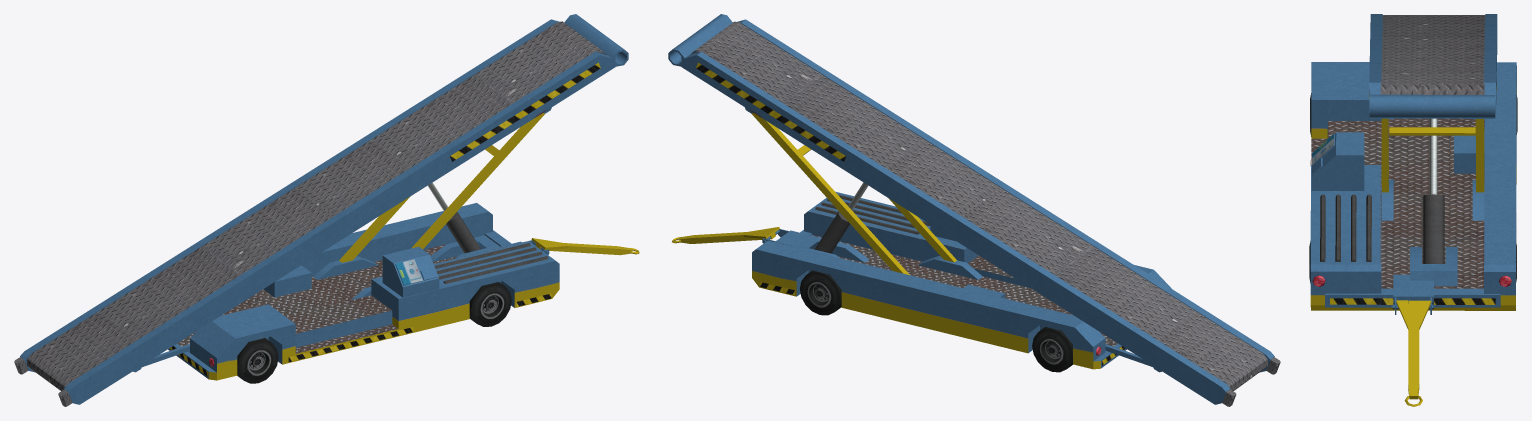
File: Vehicle_Loader01.FBX
The picture shows the model from 3 angles, left to right: view 1: azimuth 30°, elevation 25°; view 2: azimuth 150°, elevation 25°; view 3: azimuth 270°, elevation 25°; orthographic projection. The views are drawn at different scales.
Parts seen in each view (by area): view 1: Vehicle_Loader01; view 2: Vehicle_Loader01; view 3: Vehicle_Loader01.
Part boxes in pixels (x1=…): Vehicle_Loader01: x1=14, y1=14, x2=639, y2=406; Vehicle_Loader01: x1=668, y1=14, x2=1280, y2=406; Vehicle_Loader01: x1=1309, y1=14, x2=1517, y2=406.
Size of the model in its own units: 595 by 214 by 140.
